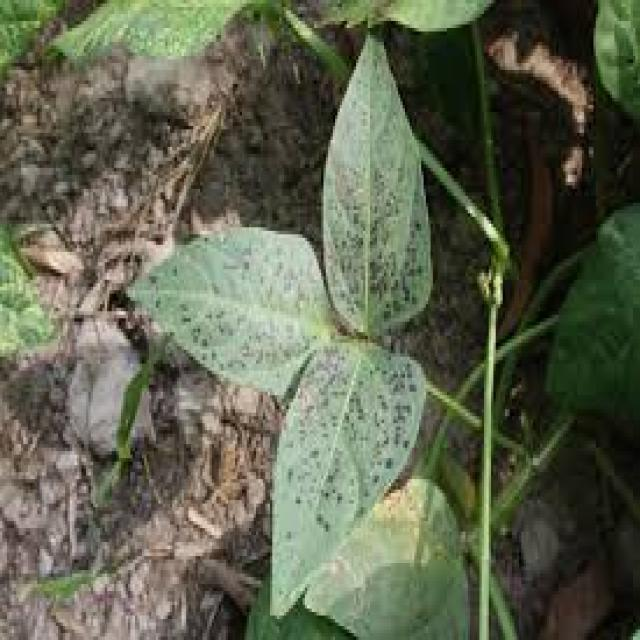Panama: (136, 220, 315, 387), (318, 68, 425, 322), (297, 342, 416, 514)
